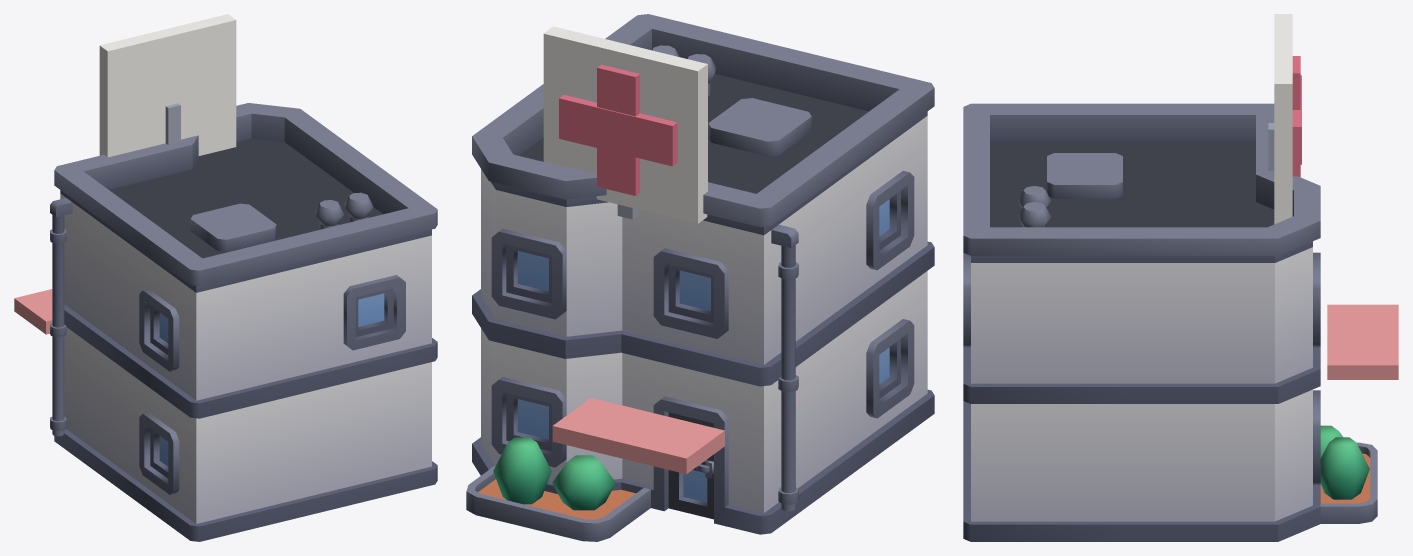
Rendered from hospital.glb.
The picture shows the model from 3 angles, left to right: view 1: azimuth 30°, elevation 25°; view 2: azimuth 150°, elevation 25°; view 3: azimuth 270°, elevation 25°; orthographic projection. The views are drawn at different scales.
Visible parts, largest first — view 1: building-c, Project addition medical sign white backing, Project addition coral entrance canopy, Project addition medical sign support; view 2: building-c, Project addition medical sign white backing, Project addition coral entrance canopy, Project addition medical cross horizontal, Project addition medical cross vertical; view 3: building-c, Project addition coral entrance canopy, Project addition medical sign white backing, Project addition medical cross horizontal, Project addition medical cross vertical.
Part boxes in pixels (left/top/right/bottom): building-c: left=50, top=103, right=437, bottom=541; Project addition medical sign white backing: left=99, top=14, right=236, bottom=157; Project addition coral entrance canopy: left=14, top=289, right=52, bottom=334; Project addition medical sign support: left=165, top=103, right=180, bottom=144; building-c: left=466, top=14, right=934, bottom=541; Project addition medical sign white backing: left=543, top=26, right=707, bottom=223; Project addition coral entrance canopy: left=552, top=398, right=724, bottom=474; Project addition medical cross horizontal: left=559, top=95, right=677, bottom=166; Project addition medical cross vertical: left=597, top=64, right=639, bottom=195; building-c: left=963, top=103, right=1377, bottom=541; Project addition coral entrance canopy: left=1327, top=304, right=1398, bottom=379; Project addition medical sign white backing: left=1274, top=14, right=1292, bottom=224; Project addition medical cross horizontal: left=1292, top=75, right=1301, bottom=164; Project addition medical cross vertical: left=1292, top=56, right=1300, bottom=177.
Size of the model in its own units: 2.92 by 4.04 by 3.78.
Materials: 5 (1 with a texture image).
